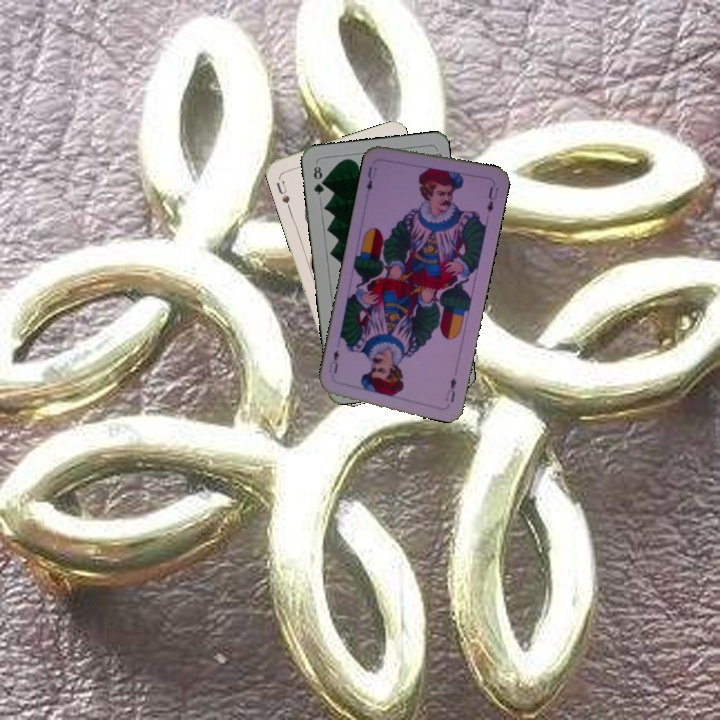EU: (442, 373, 459, 405), (362, 162, 375, 194)
G8: (309, 162, 327, 197)
SU: (272, 177, 292, 206)
